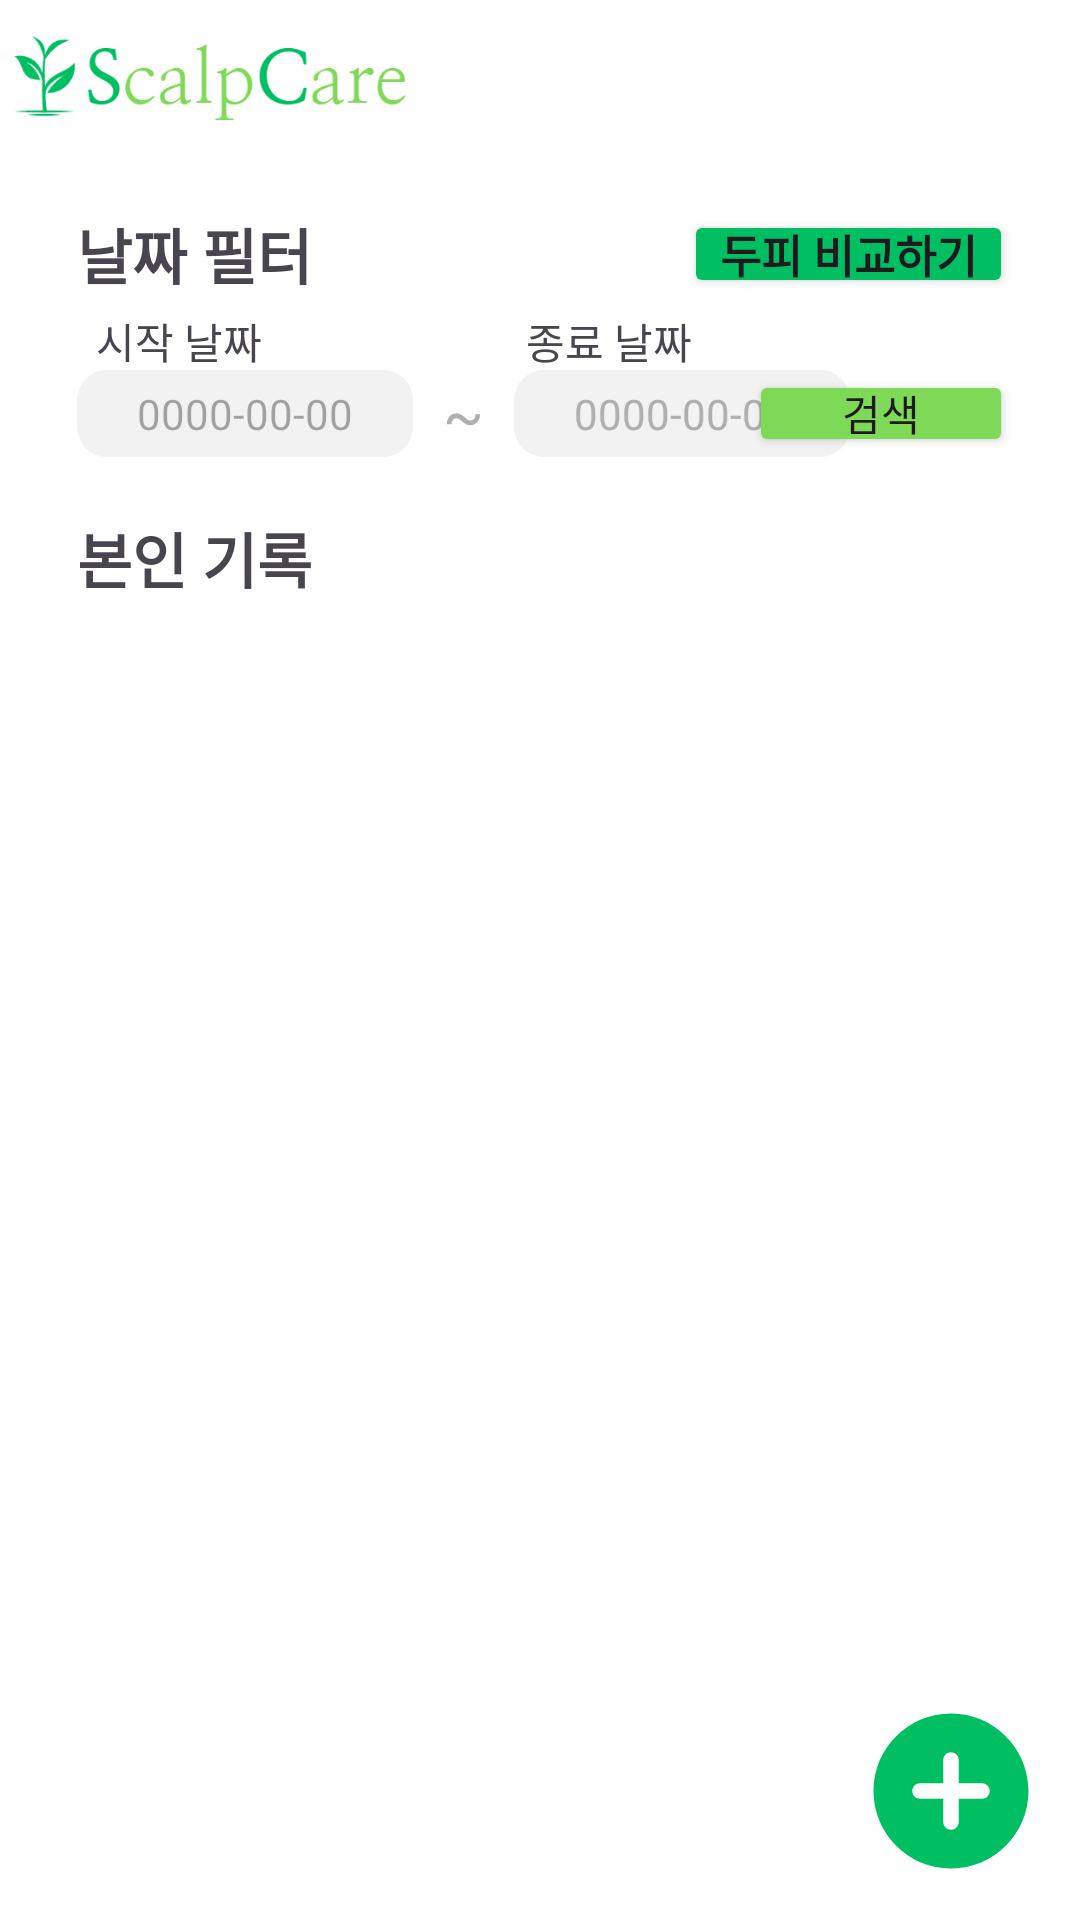

Icon click points for this 1080px×1920px phone screenshot, format point (x, y):
add: point (951, 1791)
